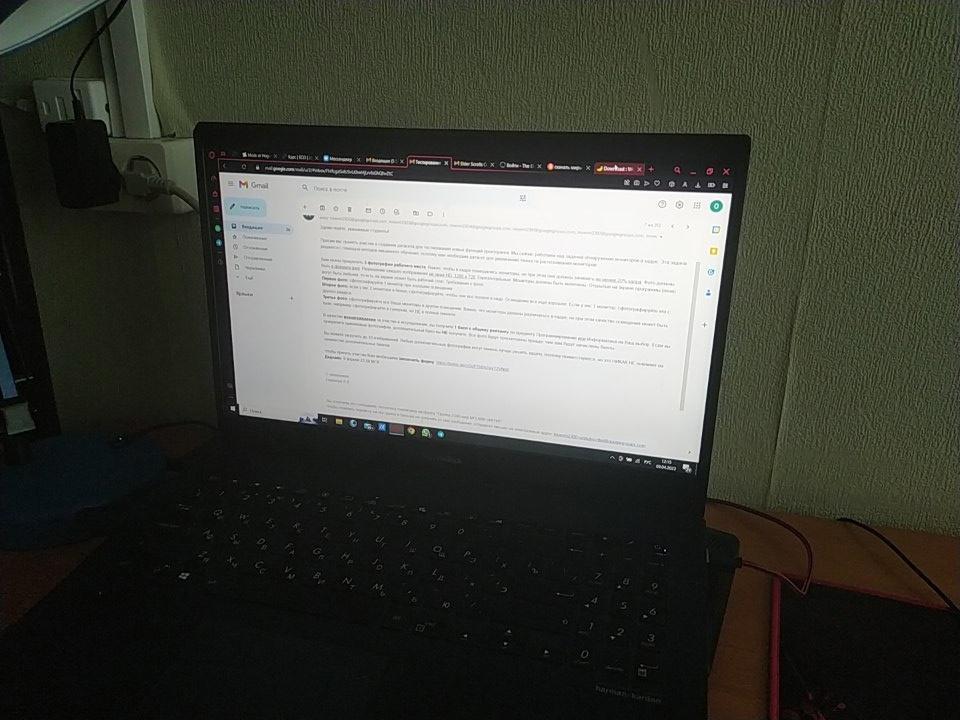monitor: (192, 119, 753, 503)
